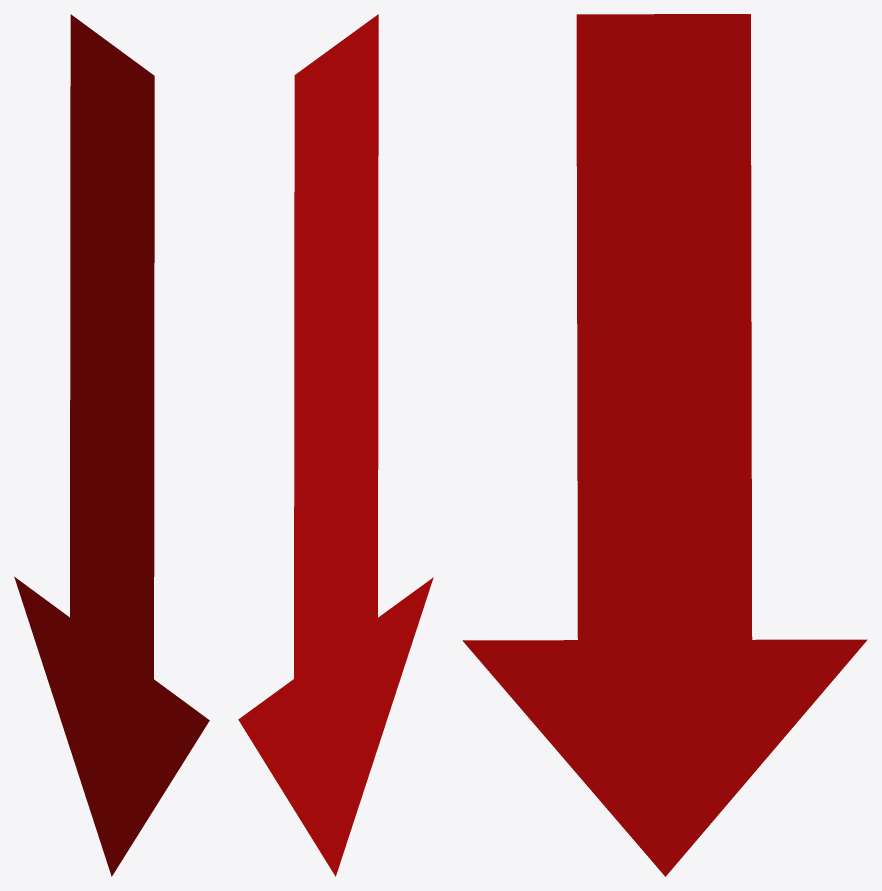
Rendered from arrow.fbx.
The picture shows the model from 3 angles, left to right: view 1: azimuth 30°, elevation 25°; view 2: azimuth 150°, elevation 25°; view 3: azimuth 270°, elevation 25°; orthographic projection. The views are drawn at different scales.
Visible parts, largest first — view 1: arrow; view 2: arrow; view 3: arrow.
Part boxes in pixels (left/top/right/bottom): arrow: left=14, top=14, right=209, bottom=876; arrow: left=238, top=14, right=433, bottom=876; arrow: left=462, top=14, right=867, bottom=876.
Size of the model in its own units: 0.00013 by 9.54 by 4.07.
